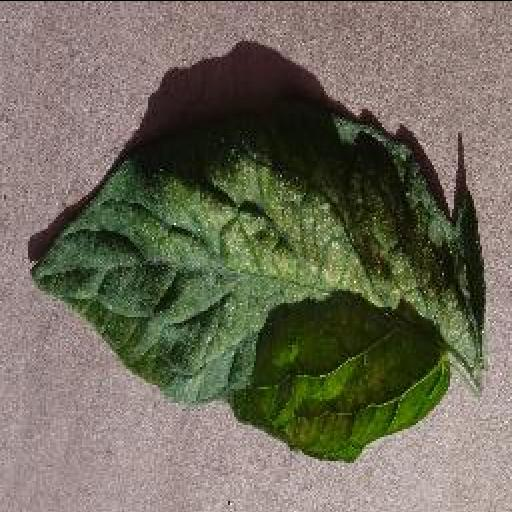disease_tomato: (30, 97, 488, 467)
